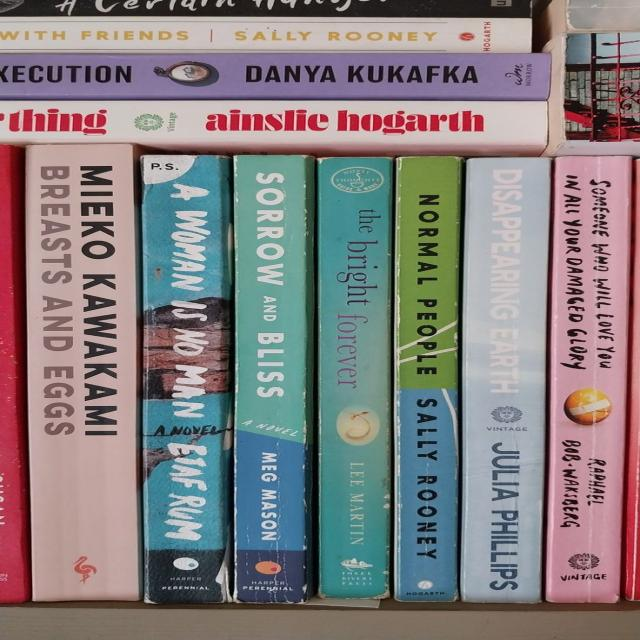book: (28, 145, 136, 599), (141, 155, 229, 601), (466, 157, 544, 601), (231, 157, 308, 603), (551, 156, 626, 599), (316, 158, 389, 598), (395, 156, 459, 600), (0, 53, 546, 99), (0, 100, 549, 145), (0, 18, 527, 52)
